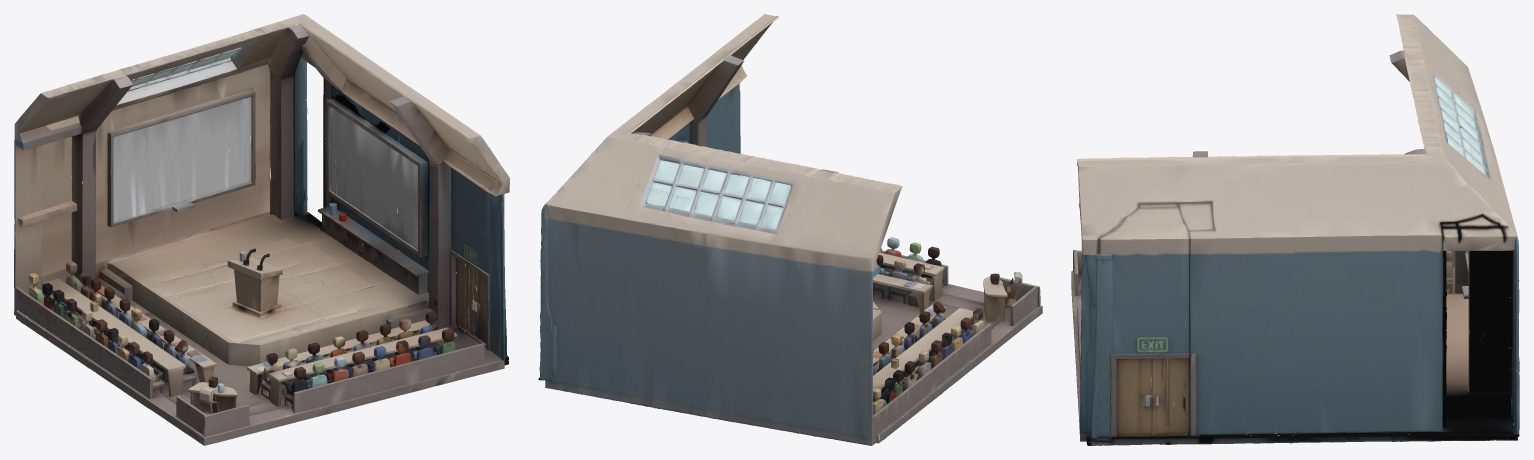
Rendered from classroom.glb.
3 views of the same model, side by side, from view 1: azimuth 30°, elevation 25°; view 2: azimuth 150°, elevation 25°; view 3: azimuth 270°, elevation 25° (orthographic). The views are drawn at different scales.
Parts seen in each view (by area): view 1: Classroom; view 2: Classroom; view 3: Classroom.
Part boxes in pixels (x1,y1,x2,y2): Classroom: (14, 14, 509, 445); Classroom: (538, 14, 1042, 445); Classroom: (1071, 14, 1519, 445).
Size of the model in its own units: 0.909 by 0.6515 by 0.9999.
Materials: 1 (1 with a texture image).
